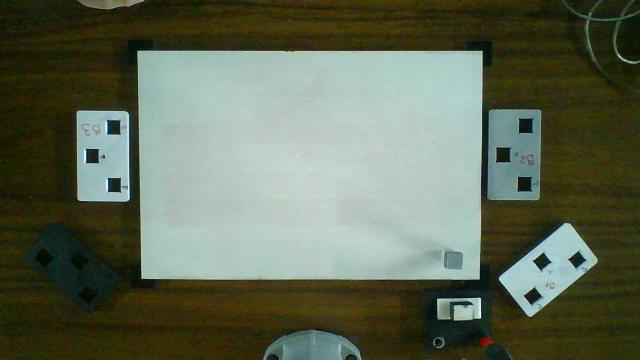peca_cinza: (448, 254, 462, 269)
